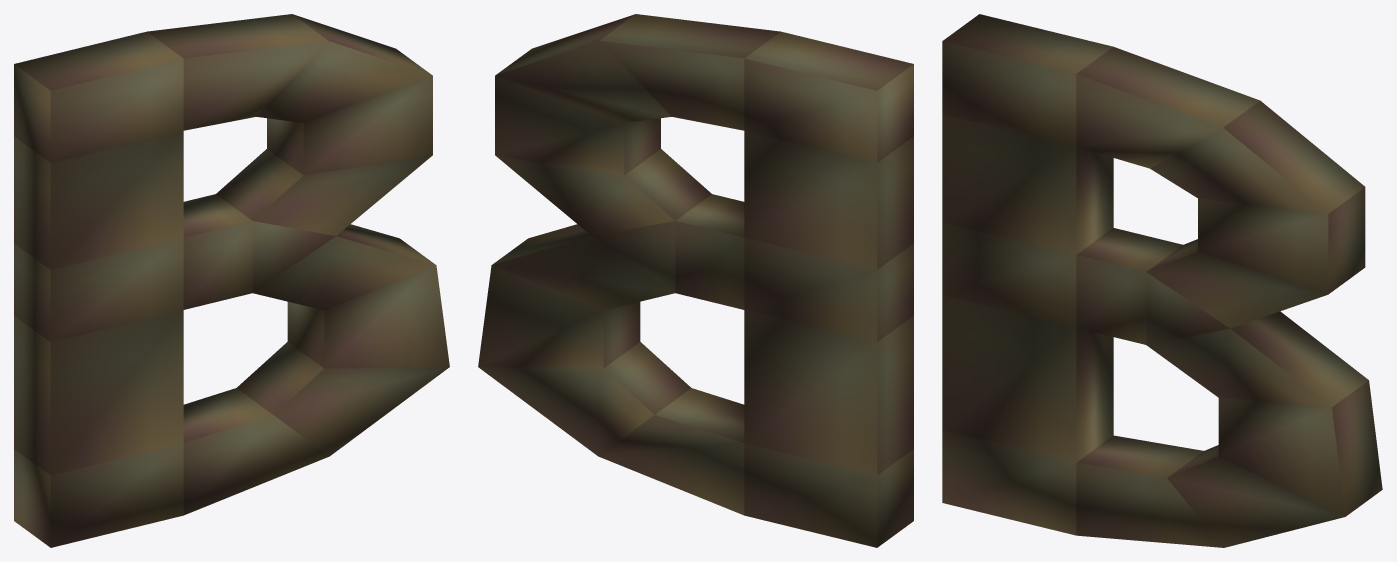
3 renders of one model, left to right at view 1: azimuth 30°, elevation 25°; view 2: azimuth 150°, elevation 25°; view 3: azimuth 330°, elevation 25°, orthographic.
Visible parts, largest first — view 1: T1L7M003_22; view 2: T1L7M003_22; view 3: T1L7M003_22.
Boxes of the visible parts, x1,y1,x2,y2 form: T1L7M003_22: (14,14,449,547); T1L7M003_22: (478,14,913,547); T1L7M003_22: (942,14,1382,547).
Bounding box in the file's own units: 0.4346 × 0.4756 × 0.0693.
